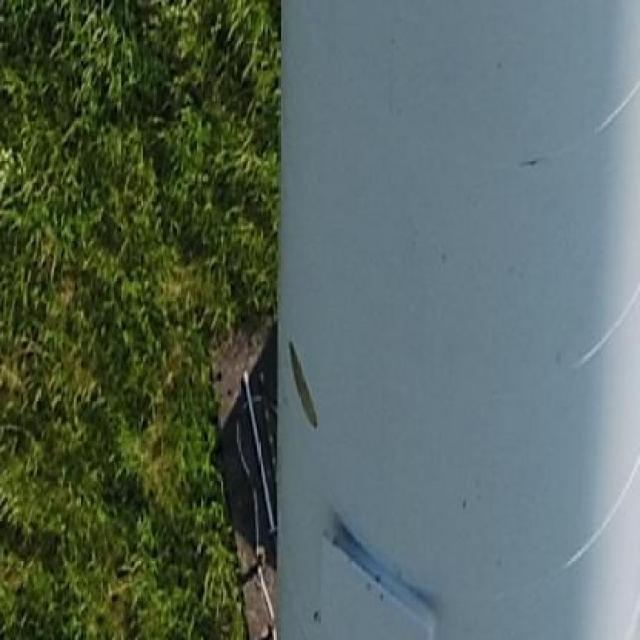Crack: (518, 157, 548, 169)
